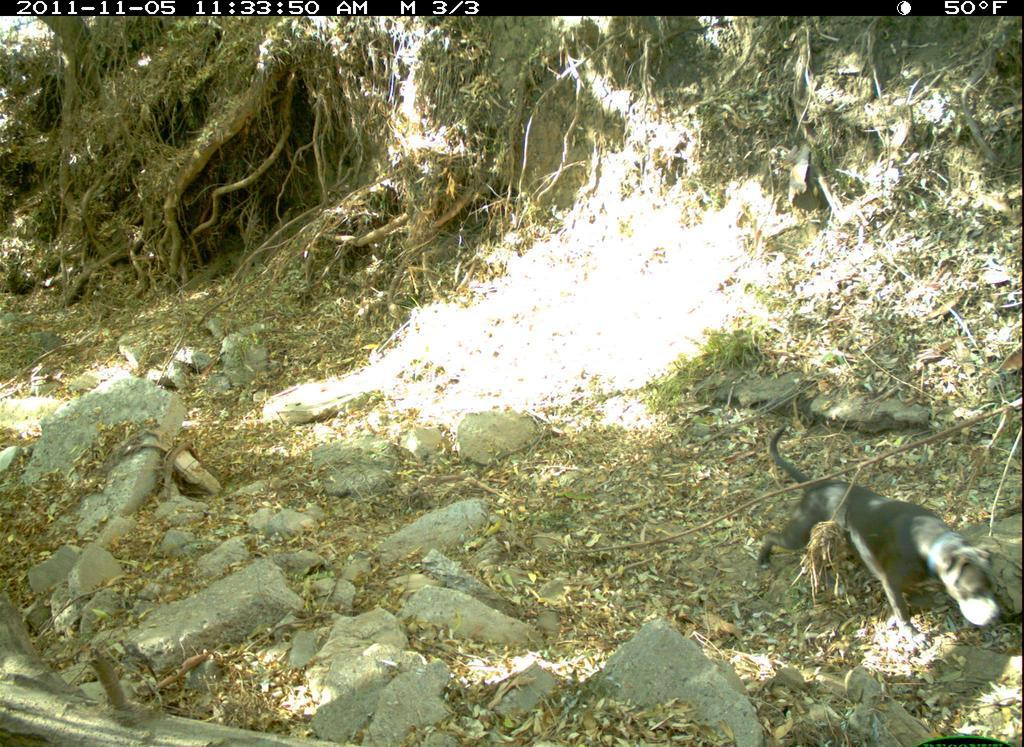dog: (745, 422, 1004, 662)
